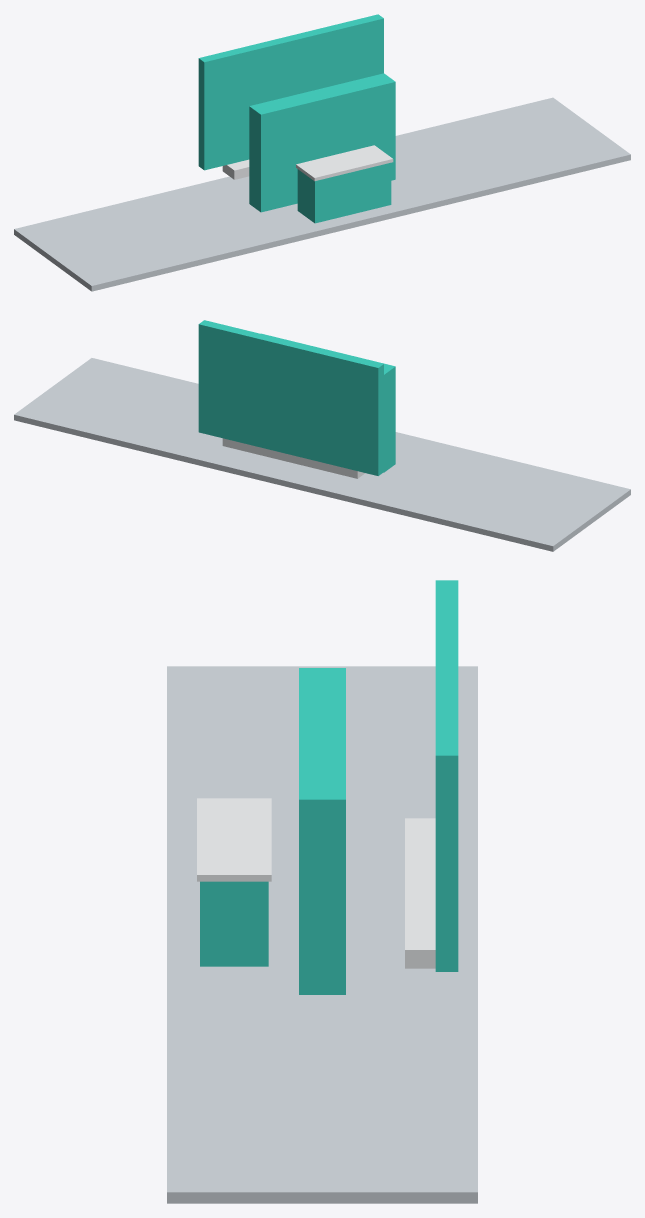
3 renders of one model, top to bottom at view 1: azimuth 30°, elevation 25°; view 2: azimuth 150°, elevation 25°; view 3: azimuth 270°, elevation 25°, orthographic. The views are drawn at different scales.
Parts seen in each view (by area): view 1: Exhibition Booth Concept; view 2: Exhibition Booth Concept; view 3: Exhibition Booth Concept.
Part boxes in pixels (bbox=[...]): Exhibition Booth Concept: bbox=[14, 14, 630, 291]; Exhibition Booth Concept: bbox=[14, 320, 630, 551]; Exhibition Booth Concept: bbox=[167, 580, 477, 1203].
Size of the model in its own units: 12 by 2.9 by 3.
